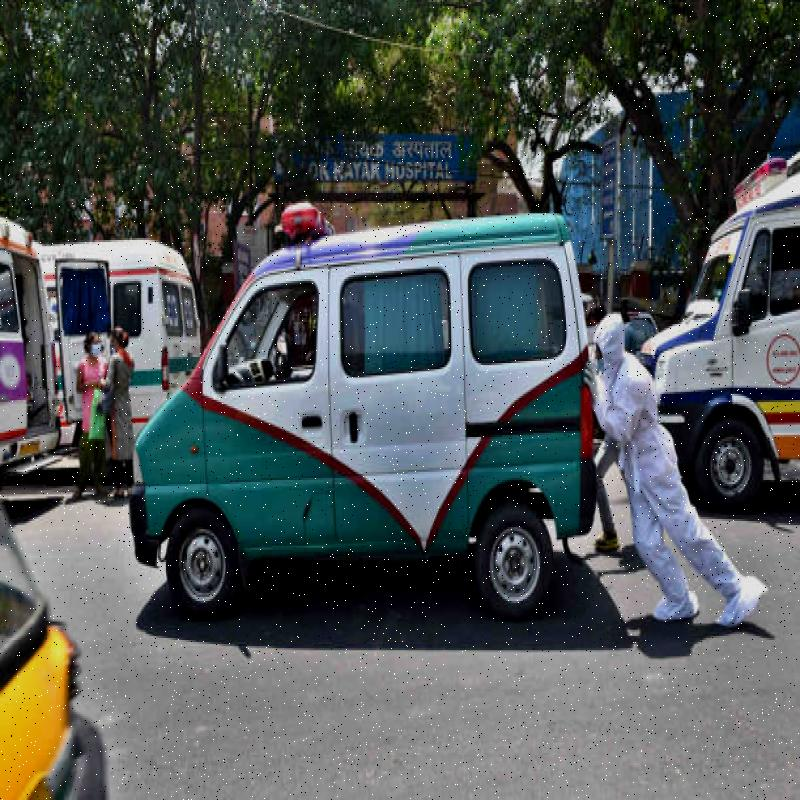ambulance: (109, 168, 616, 636), (659, 157, 800, 520)
